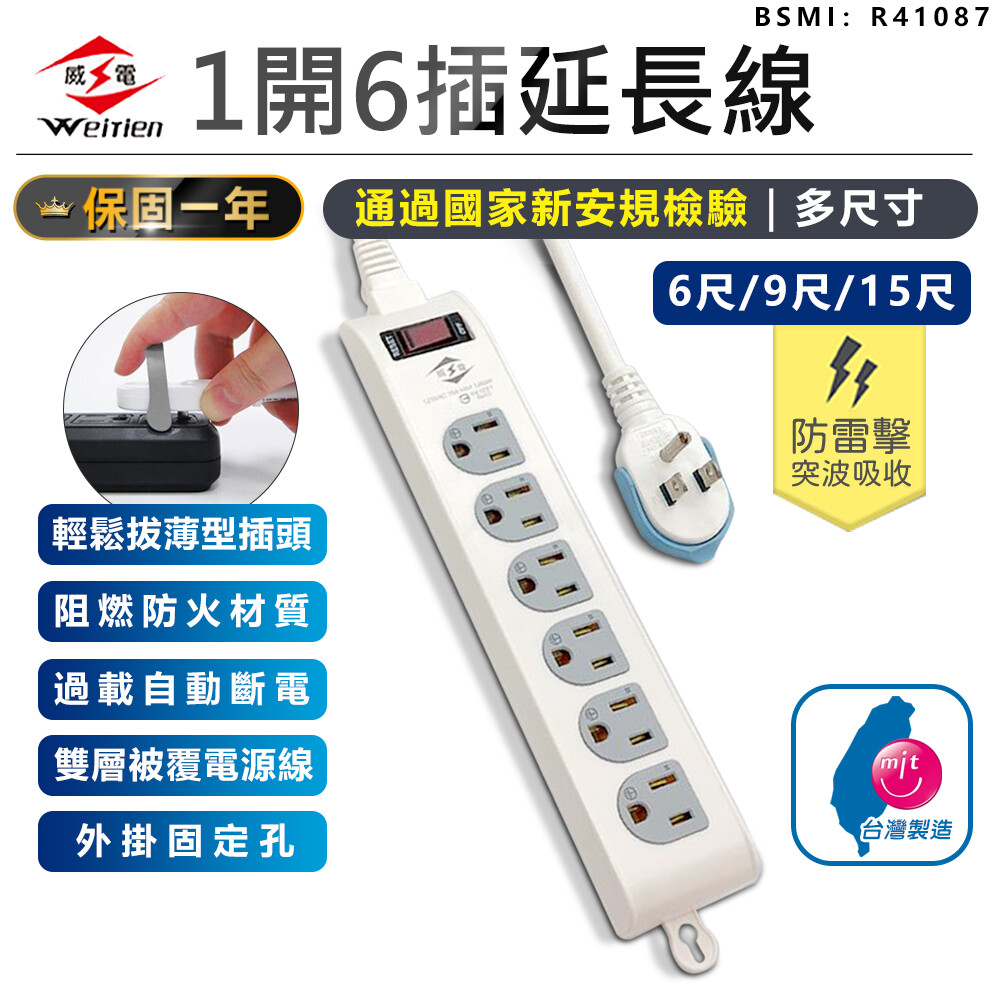socket: (337, 238, 764, 980)
